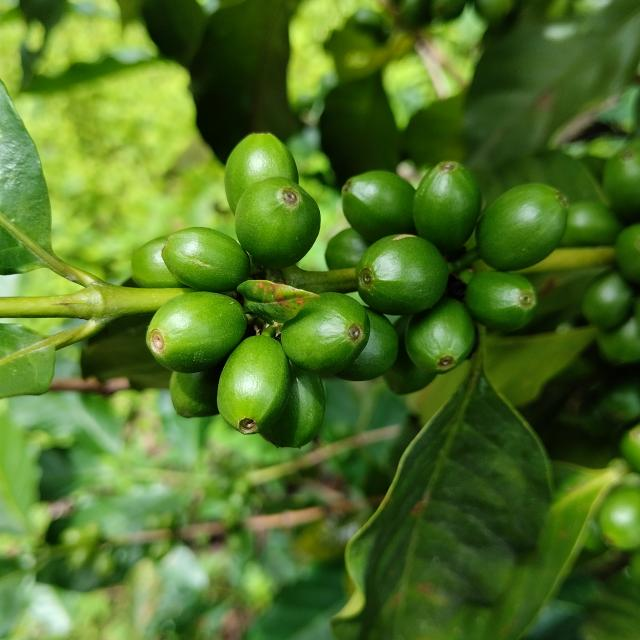green: (146, 291, 246, 373), (476, 183, 569, 271), (235, 176, 321, 268), (280, 292, 370, 376), (356, 234, 449, 315), (217, 335, 291, 435), (414, 160, 482, 252), (224, 132, 299, 213), (161, 227, 250, 292), (260, 362, 325, 448), (405, 296, 476, 374), (342, 170, 415, 242), (335, 308, 399, 381), (466, 271, 538, 332), (169, 364, 223, 418), (325, 228, 370, 270)
